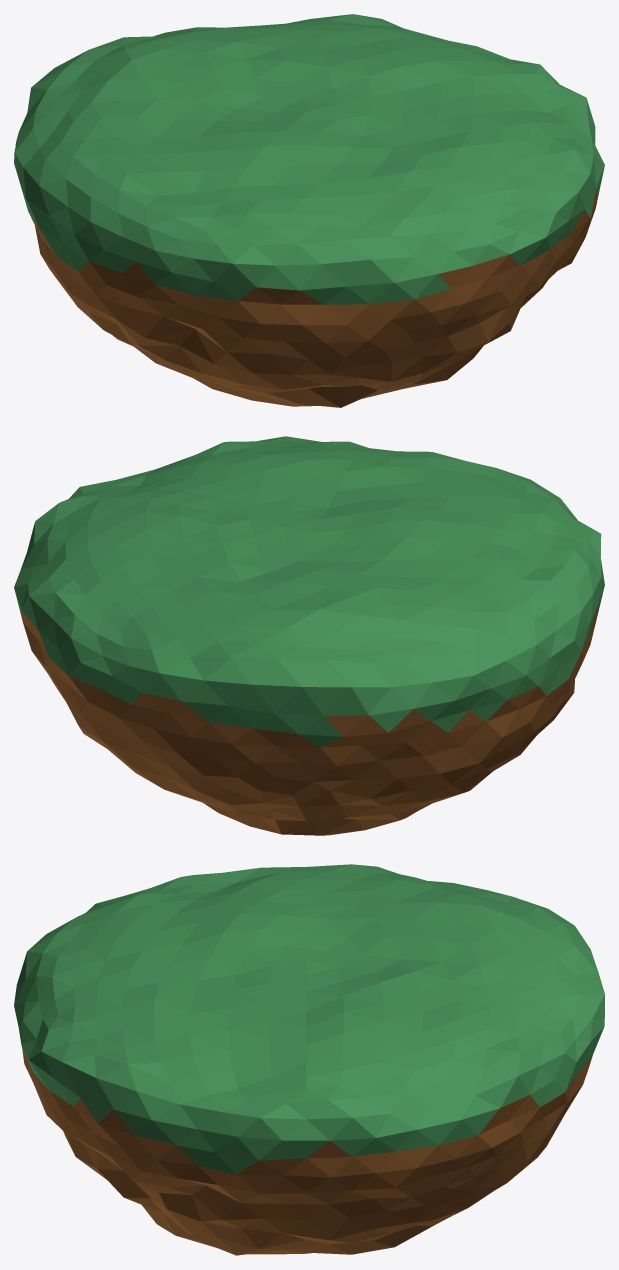
Rendered from forest_island_1_remake.fbx.
3 renders of one model, top to bottom at view 1: azimuth 30°, elevation 25°; view 2: azimuth 150°, elevation 25°; view 3: azimuth 270°, elevation 25°, orthographic.
Visible parts, largest first — view 1: Icosphere.066; view 2: Icosphere.066; view 3: Icosphere.066.
Part boxes in pixels (left/top/right/bottom): Icosphere.066: left=14, top=14, right=604, bottom=407; Icosphere.066: left=14, top=436, right=604, bottom=835; Icosphere.066: left=14, top=864, right=604, bottom=1255.
Bounding box in the file's own units: 6120 × 3286 × 6125.
